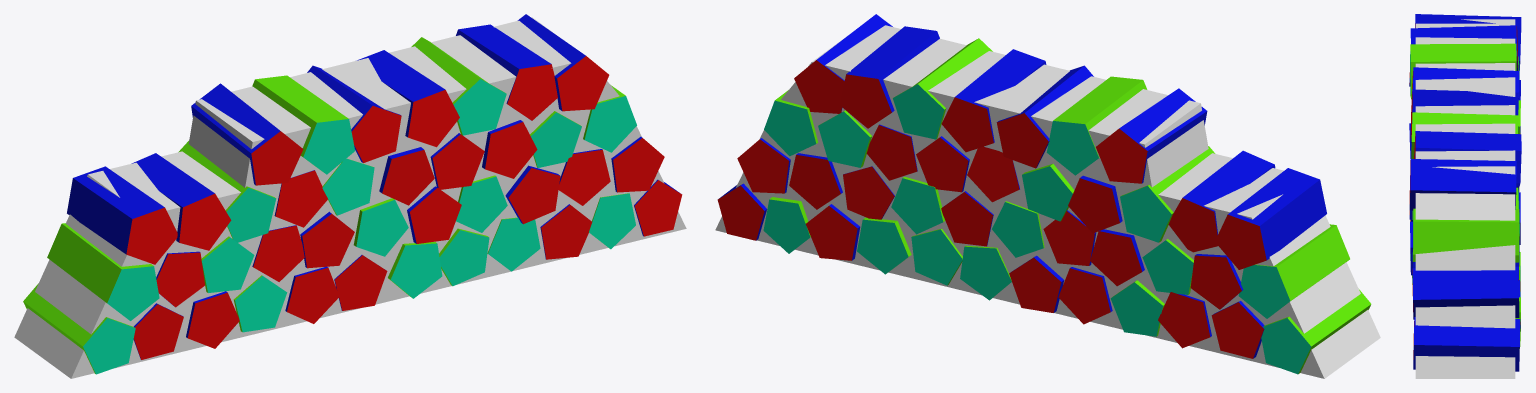
File: firewood_high.fbx
3 views of the same model, side by side, from view 1: azimuth 30°, elevation 25°; view 2: azimuth 150°, elevation 25°; view 3: azimuth 270°, elevation 25° (orthographic). The views are drawn at different scales.
Visible parts, largest first — view 1: Stack; view 2: Stack; view 3: Stack.
Part boxes in pixels (bbox=[...]): Stack: bbox=[14, 14, 686, 378]; Stack: bbox=[715, 14, 1380, 378]; Stack: bbox=[1409, 14, 1521, 378].
Size of the model in its own units: 249 by 80.02 by 44.76.
